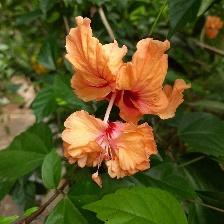hibiscus: (59, 16, 192, 185)
